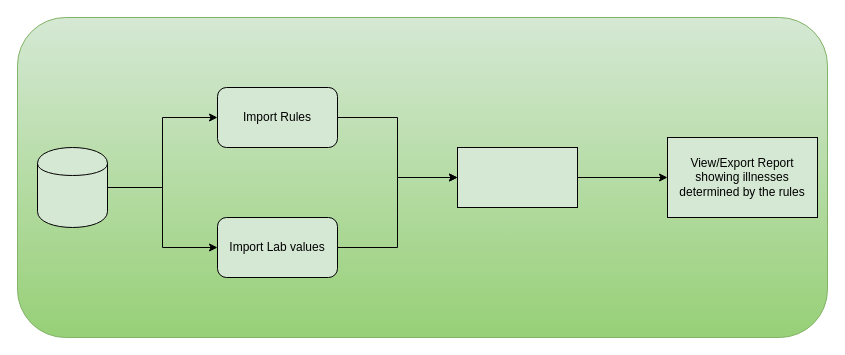
This 845x355 diagram has some shape labels left out. The shapes that lost their labels are listed below. From the top down, each one's centre as x and y in pixels, then its label:
At (x=72, y=187): "persistence".
At (x=517, y=177): "Interpret rules using lab values".
